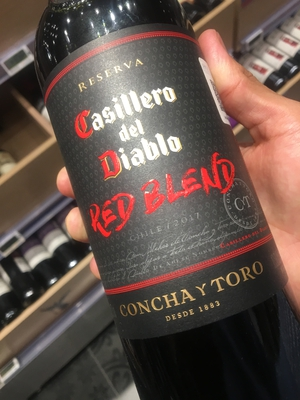casillero del diablo red blend: (29, 6, 286, 355)
